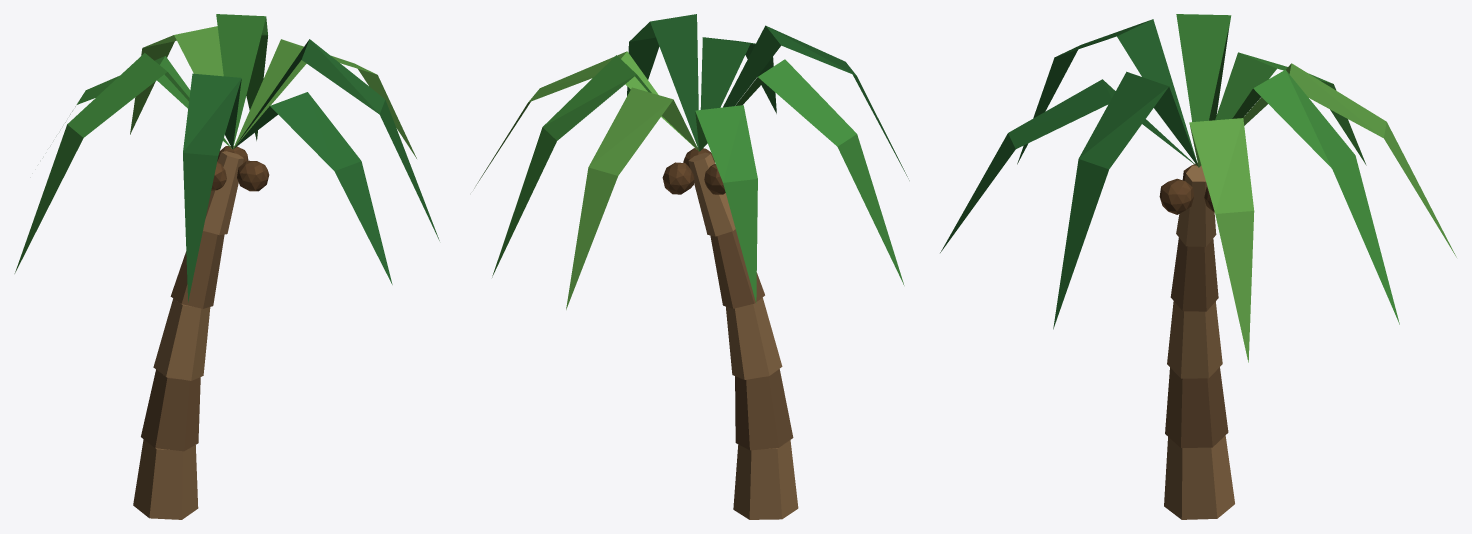
Rendered from Scatter_PalmB.fbx.
3 views of the same model, side by side, from view 1: azimuth 30°, elevation 25°; view 2: azimuth 150°, elevation 25°; view 3: azimuth 270°, elevation 25° (orthographic). The views are drawn at different scales.
Visible parts, largest first — view 1: PalmB; view 2: PalmB; view 3: PalmB.
Part boxes in pixels (x1,y1,x2,y2): PalmB: [14, 14, 439, 519]; PalmB: [474, 14, 909, 519]; PalmB: [940, 14, 1456, 519].
Bounding box in the file's own units: 16.35 × 16.71 × 16.
